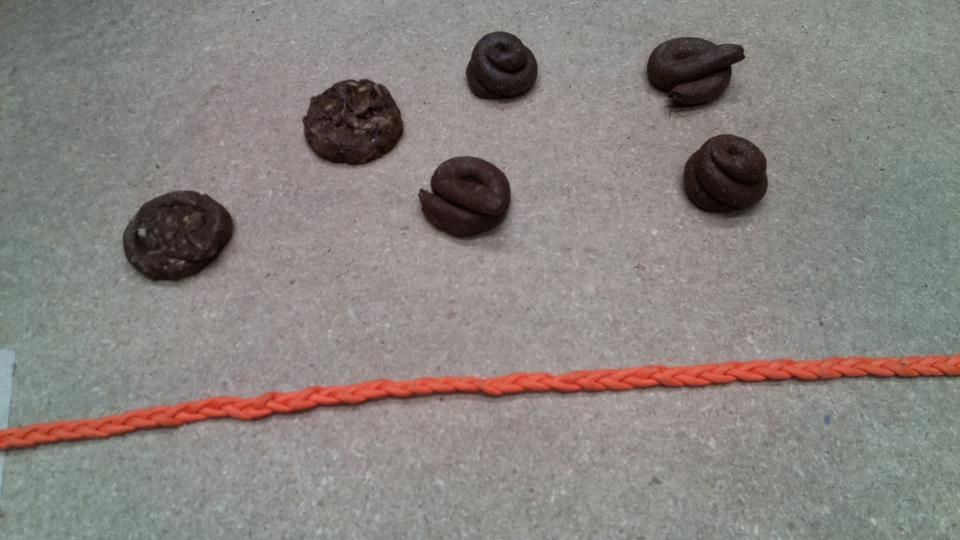poop: (119, 185, 242, 292), (289, 72, 414, 170), (640, 29, 747, 114), (420, 152, 515, 244), (673, 128, 775, 212), (462, 27, 542, 110)
rope: (352, 355, 875, 397), (723, 333, 957, 403), (176, 381, 417, 440), (4, 402, 208, 457)
